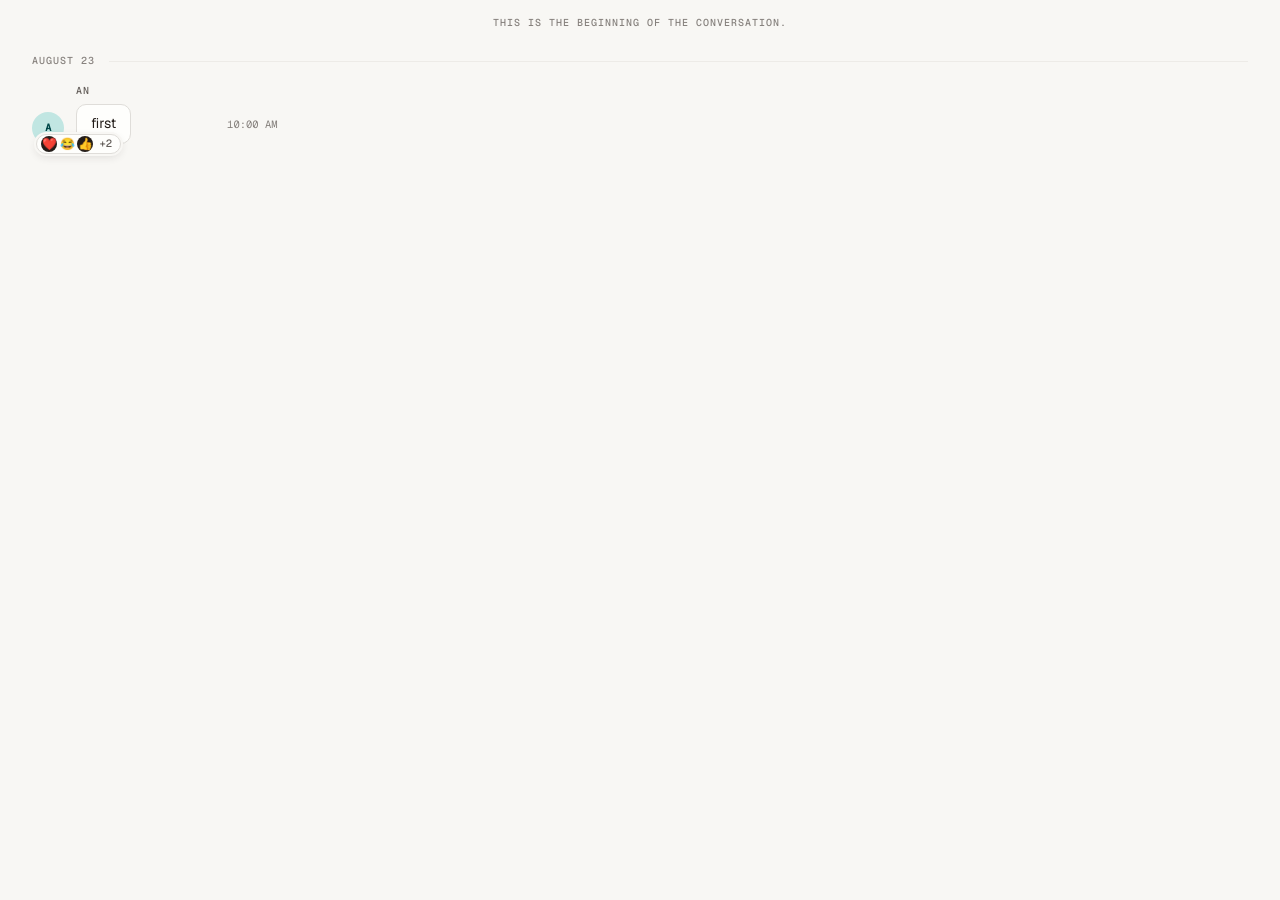
Test: MessageList › collapses past three distinct emoji into one chip that opens the list
The width and height of the screenshot is (1280, 900).
What coordinates should you click on to do the following:
click the button named "2 more reactions"
I would click on:
 (106, 144)
Its box is [96, 136, 116, 152].
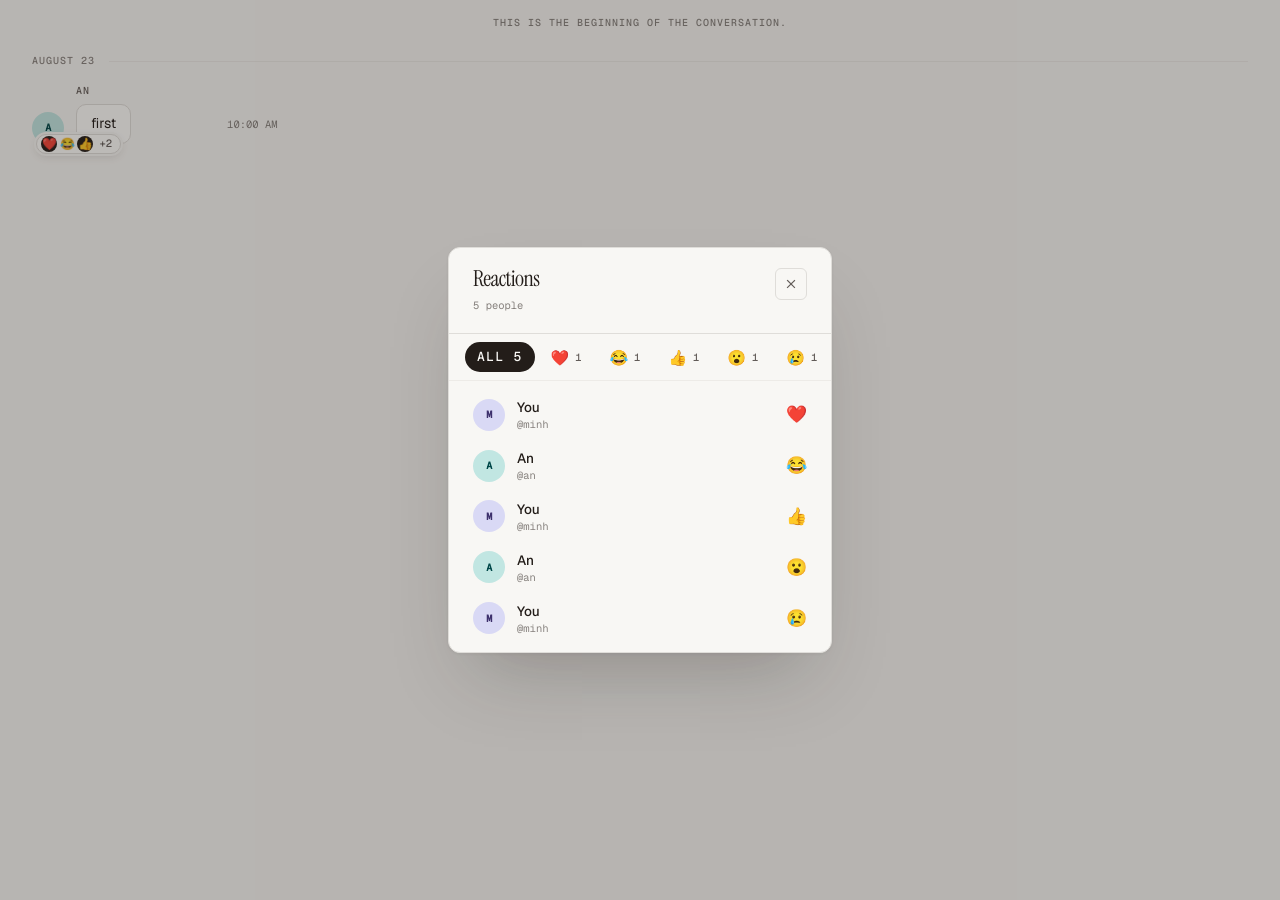
Expected: the dialog "Reactions" is shown, [448, 247, 832, 653]
